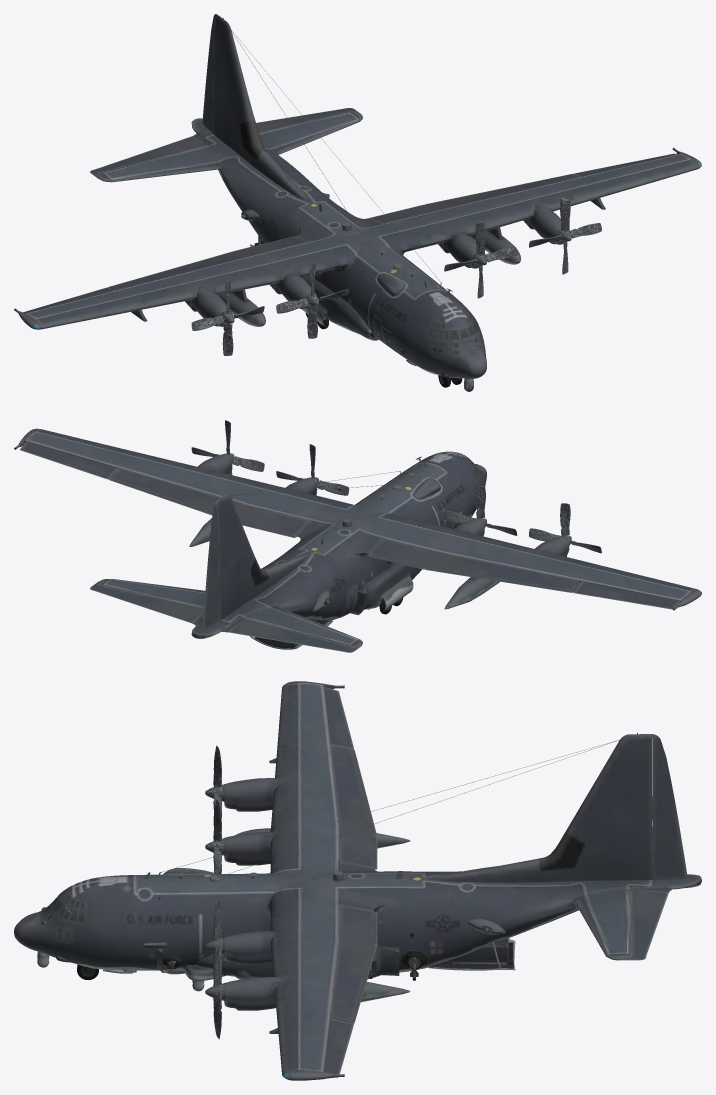
3 renders of one model, top to bottom at view 1: azimuth 30°, elevation 25°; view 2: azimuth 150°, elevation 25°; view 3: azimuth 270°, elevation 25°, orthographic. The views are drawn at different scales.
Parts seen in each view (by area): view 1: AC-130, prop_3, prop_1, prop_2, prop_0; view 2: AC-130, prop_0, prop_1, prop_3, prop_2; view 3: AC-130, prop_3, prop_1.
Part boxes in pixels (box(x1,y1,x2,y2)): AC-130: box(14, 14, 701, 391); prop_3: box(529, 197, 601, 274); prop_1: box(276, 262, 349, 338); prop_2: box(444, 221, 517, 298); prop_0: box(191, 279, 264, 355); AC-130: box(14, 428, 701, 652); prop_0: box(529, 503, 601, 556); prop_1: box(444, 486, 517, 535); prop_3: box(191, 420, 264, 474); prop_2: box(276, 444, 349, 495); AC-130: box(14, 681, 701, 1080); prop_3: box(205, 945, 224, 1039); prop_1: box(205, 799, 224, 874).
Size of the model in its own units: 40.34 by 11.58 by 29.66.
Materials: 3 (2 with a texture image).
